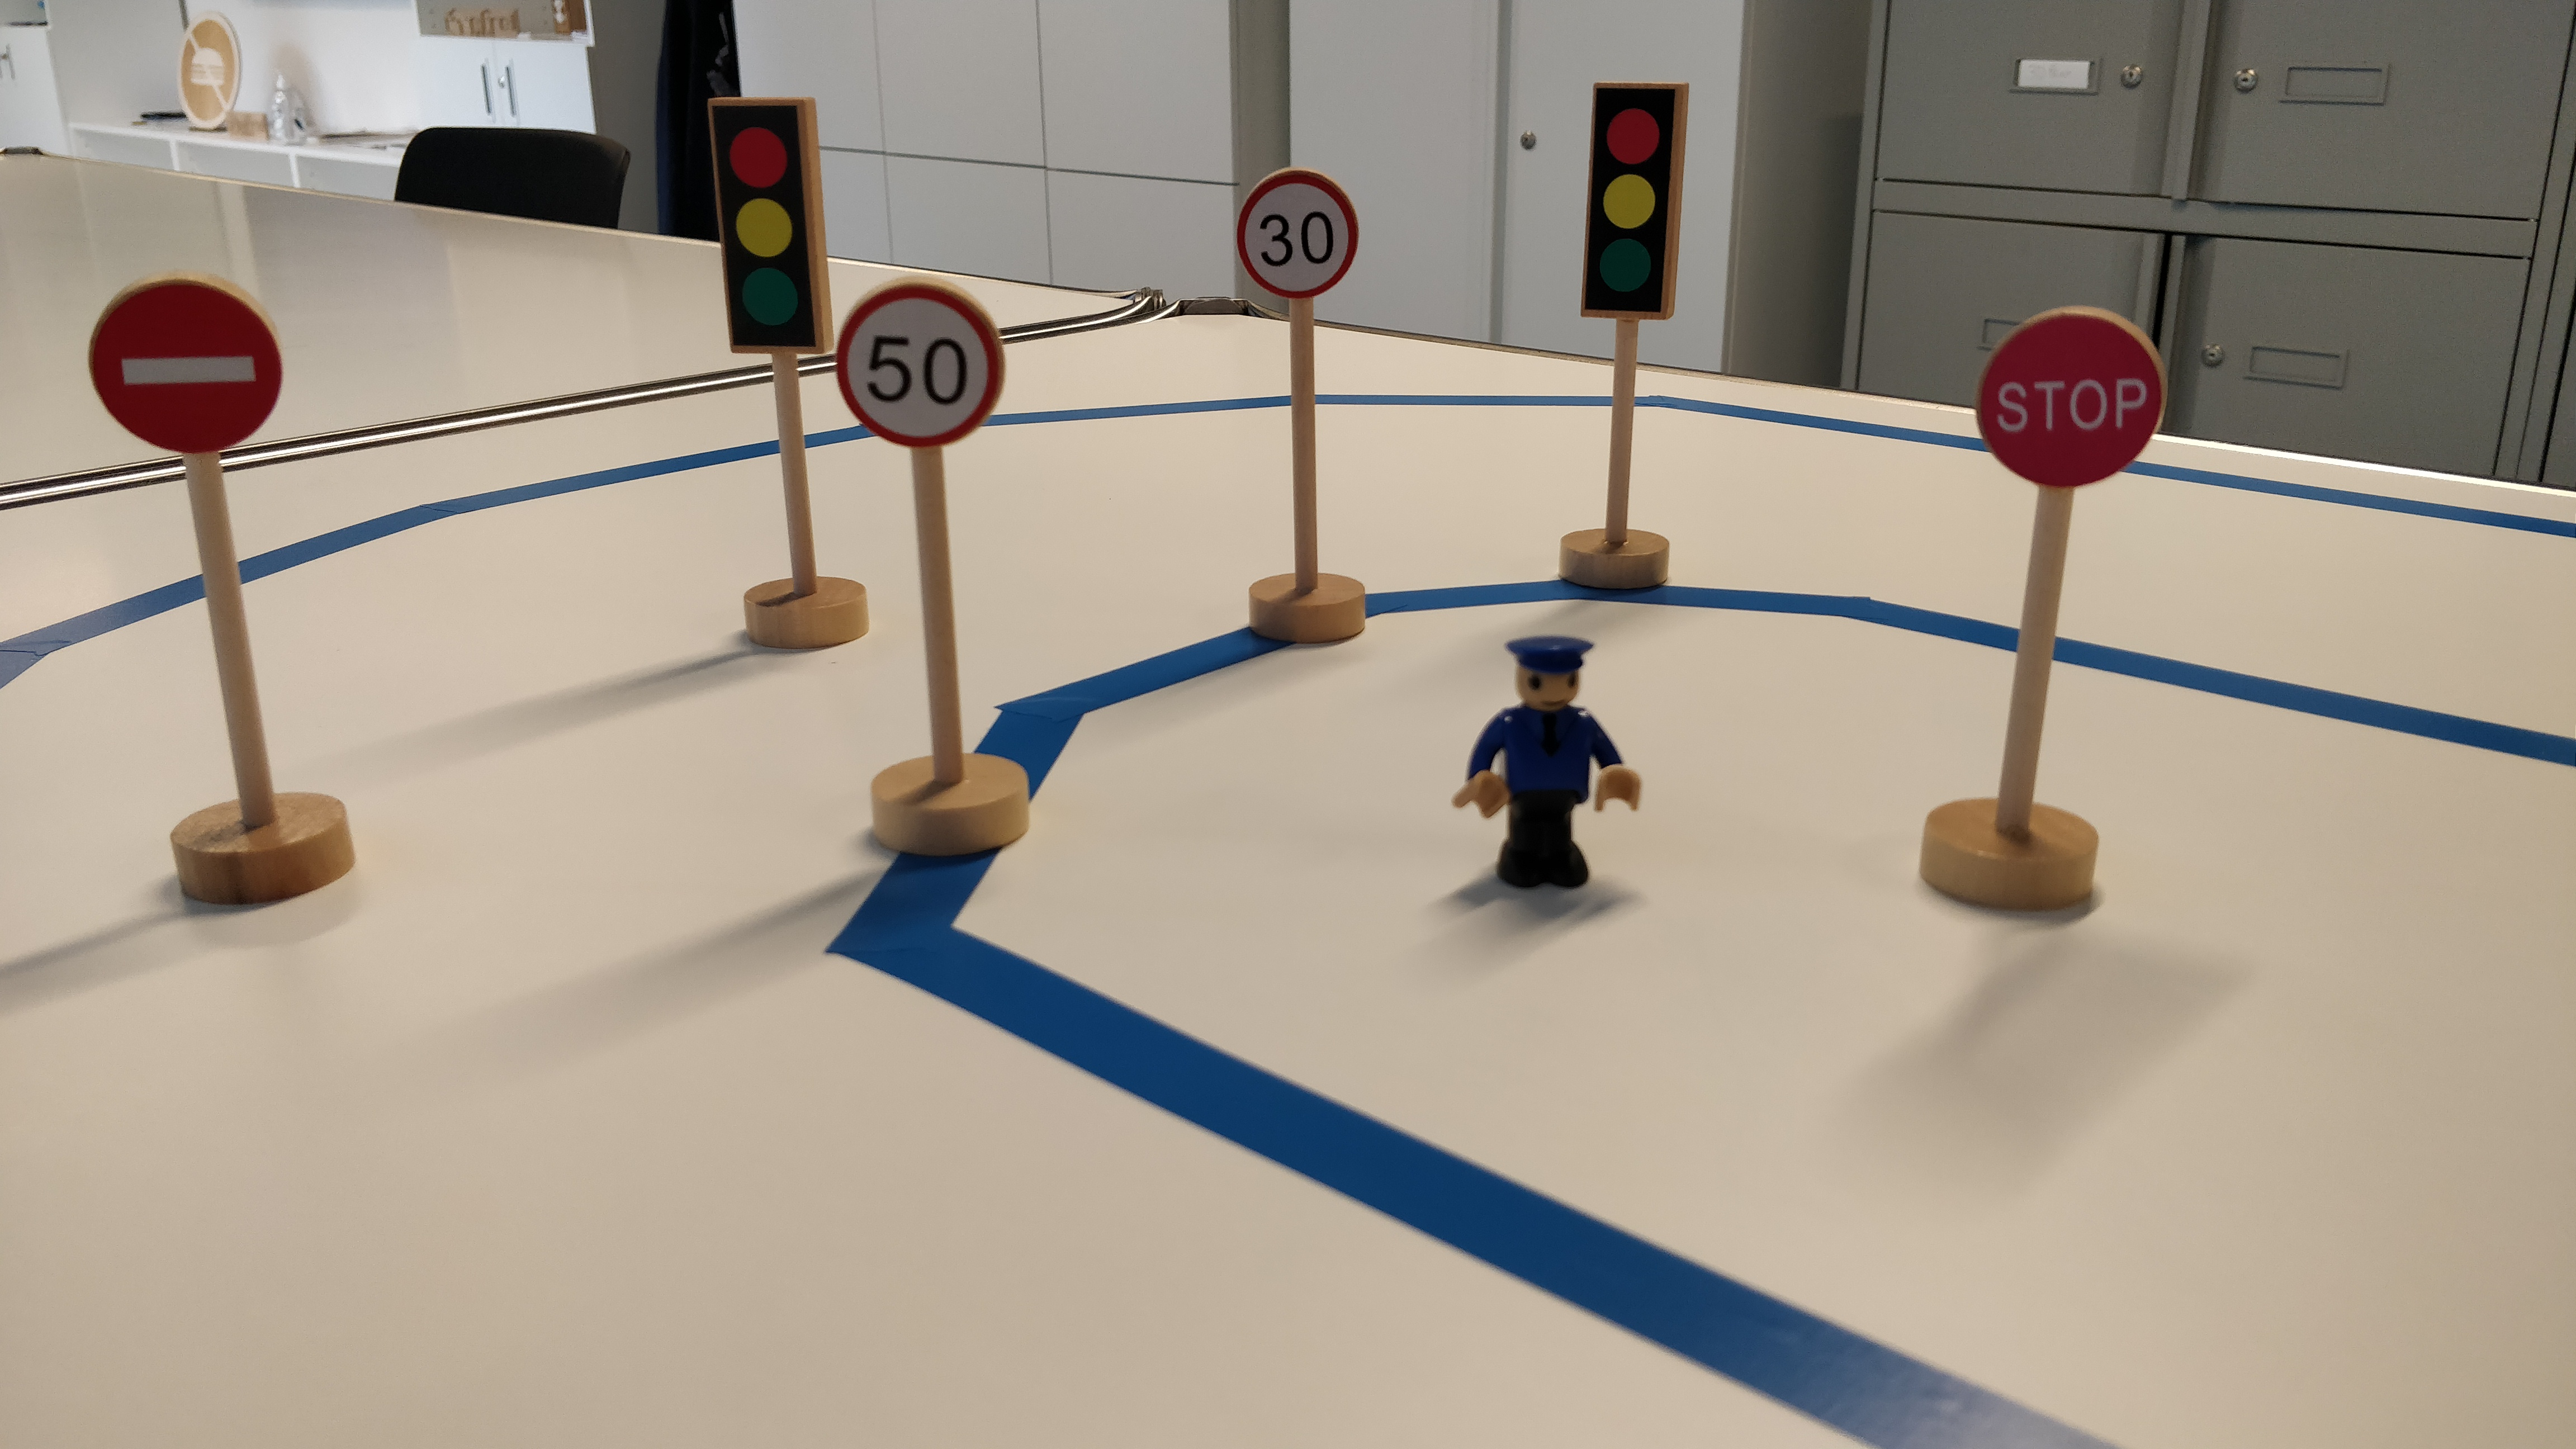Person: (1440, 634, 1653, 900)
Prohibition Sign: (84, 270, 291, 461)
Speed Limit 30: (1229, 165, 1366, 303)
Speed Limit 50: (841, 273, 1008, 454)
Stop Sign: (1979, 303, 2172, 495)
Traffic Light: (693, 90, 840, 356), (1578, 74, 1697, 328)
